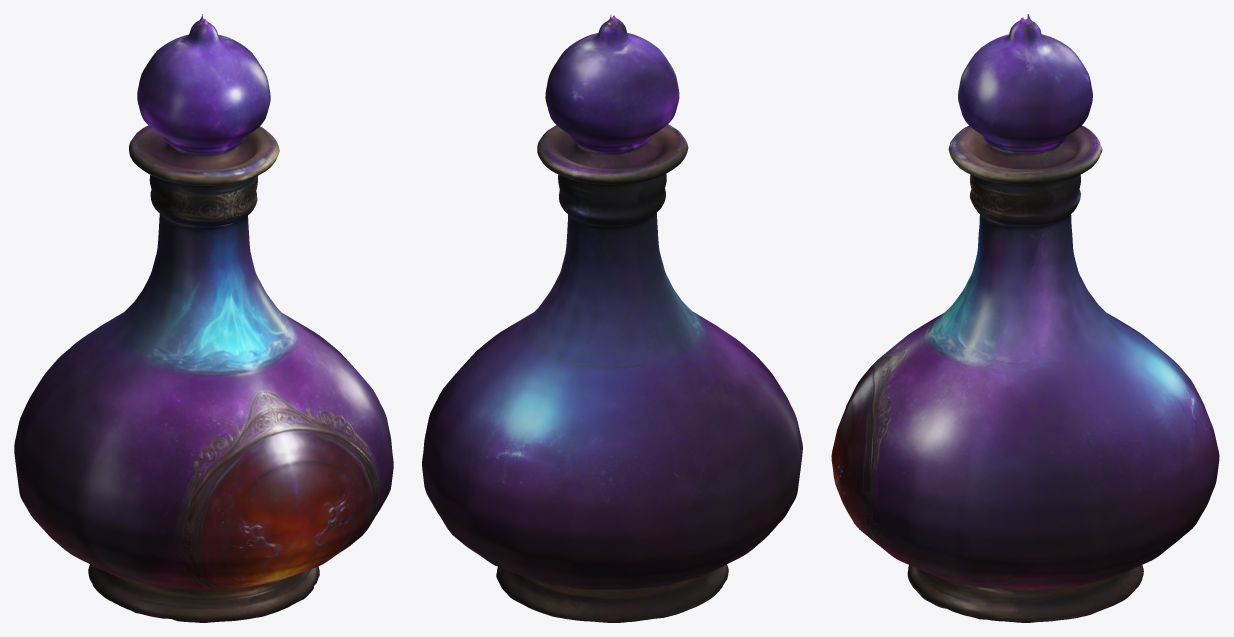
Rendered from Fantasy_Magic_Potion_0509004143_refine.fbx.
The picture shows the model from 3 angles, left to right: view 1: azimuth 30°, elevation 25°; view 2: azimuth 150°, elevation 25°; view 3: azimuth 270°, elevation 25°; orthographic projection.
Parts seen in each view (by area): view 1: Mesh_0; view 2: Mesh_0; view 3: Mesh_0.
Part boxes in pixels (x1,y1,x2,y2): Mesh_0: (14,14,393,622); Mesh_0: (422,14,802,622); Mesh_0: (831,14,1219,622).
Bounding box in the file's own units: 100 × 163 × 102.
1 material, 1 textured.
